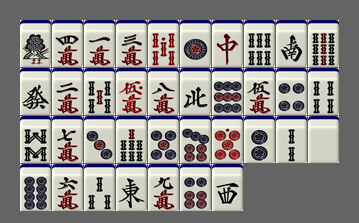0m: (116, 68, 147, 115)
0p: (212, 116, 243, 163)
0s: (148, 20, 179, 67)
1m: (84, 20, 115, 67)
1p: (180, 20, 211, 67)
1s: (20, 20, 51, 67)
1z: (116, 164, 147, 211)
2m: (52, 68, 83, 115)
2p: (244, 116, 275, 163)
2s: (276, 116, 307, 163)
2z: (276, 20, 307, 67)
3m: (116, 20, 147, 67)
3p: (84, 116, 115, 163)
3s: (84, 164, 115, 211)
3z: (212, 164, 243, 211)
4m: (52, 20, 83, 67)
4p: (276, 68, 307, 115)
4s: (308, 68, 339, 115)
4z: (180, 68, 211, 115)
5m: (244, 68, 275, 115)
5p: (148, 116, 179, 163)
5s: (84, 68, 115, 115)
5z: (308, 116, 339, 163)
6m: (52, 164, 83, 211)
6p: (180, 164, 211, 211)
6s: (244, 20, 275, 67)
6z: (20, 68, 51, 115)
7m: (52, 116, 83, 163)
7p: (180, 116, 211, 163)
7s: (116, 116, 147, 163)
7z: (212, 20, 243, 67)
8m: (148, 68, 179, 115)
8p: (20, 164, 51, 211)
8s: (20, 116, 51, 163)
9m: (148, 164, 179, 211)
9p: (212, 68, 243, 115)
9s: (308, 20, 339, 67)
